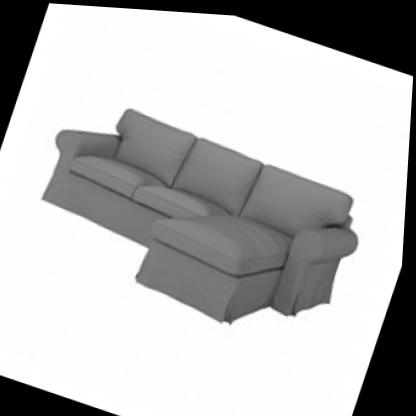Sofa: (5, 52, 392, 367)
